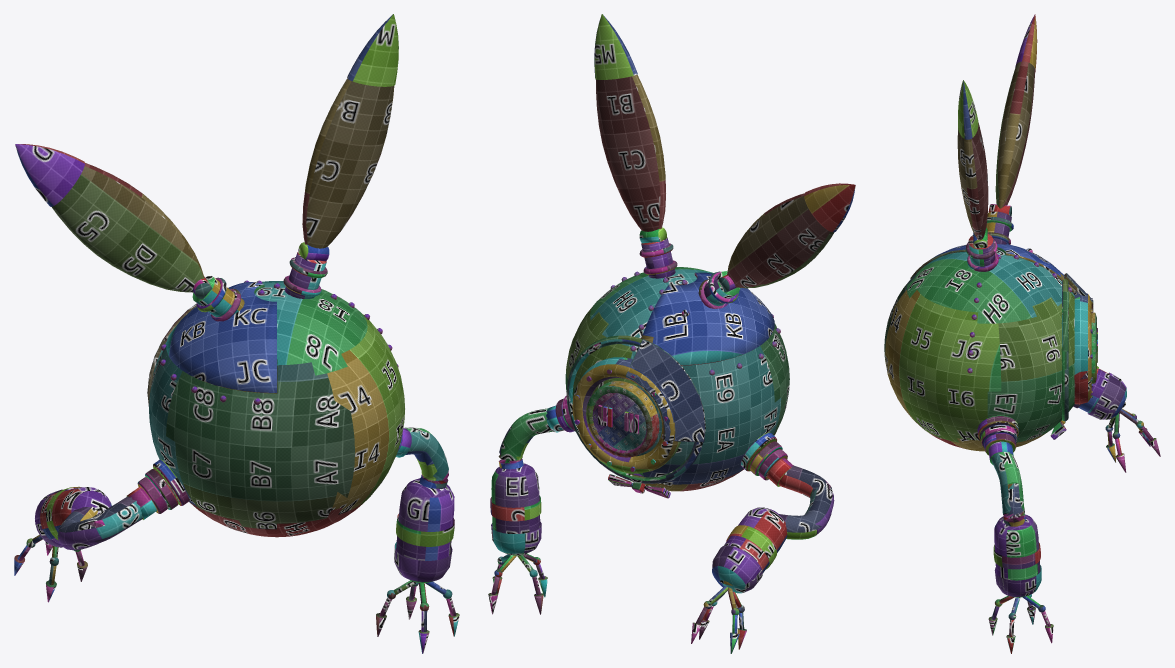
The model's file is uv_rabbit.glb.
The picture shows the model from 3 angles, left to right: view 1: azimuth 30°, elevation 25°; view 2: azimuth 150°, elevation 25°; view 3: azimuth 270°, elevation 25°; orthographic projection. The views are drawn at different scales.
Parts seen in each view (by area): view 1: Body_Sphere, Ear_R_Paddle, Ear_L_Paddle, Panel_Blue, Pod_L, Arm_Tube_R, Ear_R_Tip, Ear_L_Tip, Arm_Tube_L, Pod_R, Pod_Cap_L, Pod_Band_L (+2 smaller); view 2: Body_Sphere, Ear_L_Paddle, Panel_Blue, Ear_R_Paddle, Brow_Plate, Porthole_Bezel, Arm_Tube_R, Pod_L, Porthole_Inner_Ring, Face_Gasket_Red, Screen_Glass, Ear_L_Tip (+8 smaller); view 3: Body_Sphere, Ear_R_Paddle, Ear_L_Paddle, Pod_L, Porthole_Bezel, Arm_Tube_L, Pod_Cap_R, Face_Gasket_Red, Panel_Blue, Ear_L_Tip, Pod_Cap_L, Ear_R_Tip (+6 smaller).
Boxes of the visible parts, x1,y1,x2,y2 form: Body_Sphere: (149,281,404,537); Ear_R_Paddle: (52,163,204,292); Ear_L_Paddle: (302,78,394,248); Panel_Blue: (166,282,277,393); Pod_L: (396,478,454,560); Arm_Tube_R: (57,496,142,550); Ear_R_Tip: (15,144,84,206); Ear_L_Tip: (347,14,398,86); Arm_Tube_L: (404,427,448,488); Pod_R: (40,487,111,545); Pod_Cap_L: (394,542,452,582); Pod_Band_L: (396,514,454,546); Body_Sphere: (565,267,789,491); Ear_L_Paddle: (596,74,665,231); Panel_Blue: (641,272,774,365); Ear_R_Paddle: (727,193,834,288); Brow_Plate: (625,339,705,442); Porthole_Bezel: (572,357,680,473); Arm_Tube_R: (778,465,834,539); Pod_L: (491,463,540,533); Porthole_Inner_Ring: (586,381,659,457); Face_Gasket_Red: (566,335,704,483); Screen_Glass: (592,393,646,450); Ear_L_Tip: (594,14,637,79); Body_Sphere: (884,249,1074,451); Ear_R_Paddle: (995,61,1035,208); Ear_L_Paddle: (957,122,988,240); Pod_L: (994,514,1040,580); Porthole_Bezel: (1074,292,1091,404); Arm_Tube_L: (991,451,1025,526); Pod_Cap_R: (1087,372,1126,419); Face_Gasket_Red: (1061,275,1068,421); Panel_Blue: (910,244,1076,294); Ear_L_Tip: (958,80,978,139); Pod_Cap_L: (994,565,1041,597); Ear_R_Tip: (1015,14,1037,72).
Size of the model in its own units: 1.08 by 1.61 by 0.7478.
1 material, 1 textured.
